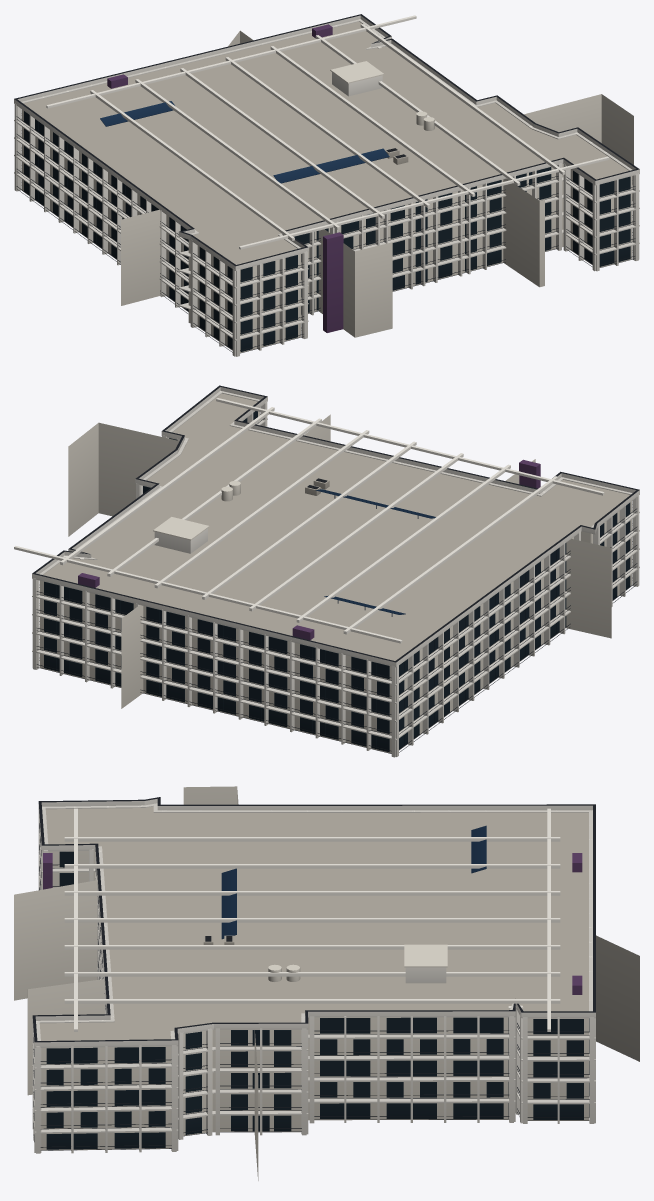
Rendered from kgh_hostel.glb.
3 views of the same model, one above another, from view 1: azimuth 30°, elevation 25°; view 2: azimuth 150°, elevation 25°; view 3: azimuth 270°, elevation 25° (orthographic). The views are drawn at different scales.
Visible parts, largest first — view 1: LOD0_High_RoofSlabConcrete, LOD0_High_StuccoWhite, LOD0_High_StuccoWarmTrim, LOD0_High_RecessedCavityGlass, LOD0_High_DarkAnodizedSteel, LOD0_High_PurpleCore, LOD1_Medium_RecessedCavityGlass, LOD0_High_SolarPV, LOD1_Medium_StuccoWhite; view 2: LOD0_High_RoofSlabConcrete, LOD0_High_StuccoWhite, LOD0_High_StuccoWarmTrim, LOD0_High_RecessedCavityGlass, LOD0_High_DarkAnodizedSteel, LOD1_Medium_RecessedCavityGlass, LOD0_High_PurpleCore, LOD0_High_SolarPV; view 3: LOD0_High_RoofSlabConcrete, LOD0_High_StuccoWhite, LOD0_High_StuccoWarmTrim, LOD0_High_RecessedCavityGlass, LOD0_High_DarkAnodizedSteel, LOD1_Medium_RecessedCavityGlass, LOD0_High_SolarPV, LOD0_High_PurpleCore.
Part boxes in pixels (box(x1,y1,x2,y2)): LOD0_High_RoofSlabConcrete: box(24, 21, 628, 264); LOD0_High_StuccoWhite: box(14, 15, 639, 356); LOD0_High_StuccoWarmTrim: box(21, 30, 633, 352); LOD0_High_RecessedCavityGlass: box(24, 111, 630, 351); LOD0_High_DarkAnodizedSteel: box(14, 14, 639, 353); LOD0_High_PurpleCore: box(107, 24, 343, 332); LOD1_Medium_RecessedCavityGlass: box(35, 119, 619, 312); LOD0_High_SolarPV: box(100, 101, 389, 183); LOD1_Medium_StuccoWhite: box(330, 175, 515, 286); LOD0_High_RoofSlabConcrete: box(43, 393, 629, 660); LOD0_High_StuccoWhite: box(14, 387, 639, 757); LOD0_High_StuccoWarmTrim: box(40, 411, 631, 753); LOD0_High_RecessedCavityGlass: box(44, 411, 630, 752); LOD0_High_DarkAnodizedSteel: box(32, 385, 639, 753); LOD1_Medium_RecessedCavityGlass: box(57, 418, 559, 748); LOD0_High_PurpleCore: box(78, 459, 540, 640); LOD0_High_SolarPV: box(315, 489, 435, 614); LOD0_High_RoofSlabConcrete: box(39, 806, 588, 1040); LOD0_High_StuccoWhite: box(32, 799, 595, 1153); LOD0_High_StuccoWarmTrim: box(14, 786, 639, 1180); LOD0_High_RecessedCavityGlass: box(46, 851, 589, 1149); LOD0_High_DarkAnodizedSteel: box(32, 797, 595, 1150); LOD1_Medium_RecessedCavityGlass: box(63, 1017, 566, 1149); LOD0_High_SolarPV: box(221, 825, 486, 939); LOD0_High_PurpleCore: box(43, 853, 582, 994).
Size of the model in its own units: 106 by 20.97 by 95.47.
